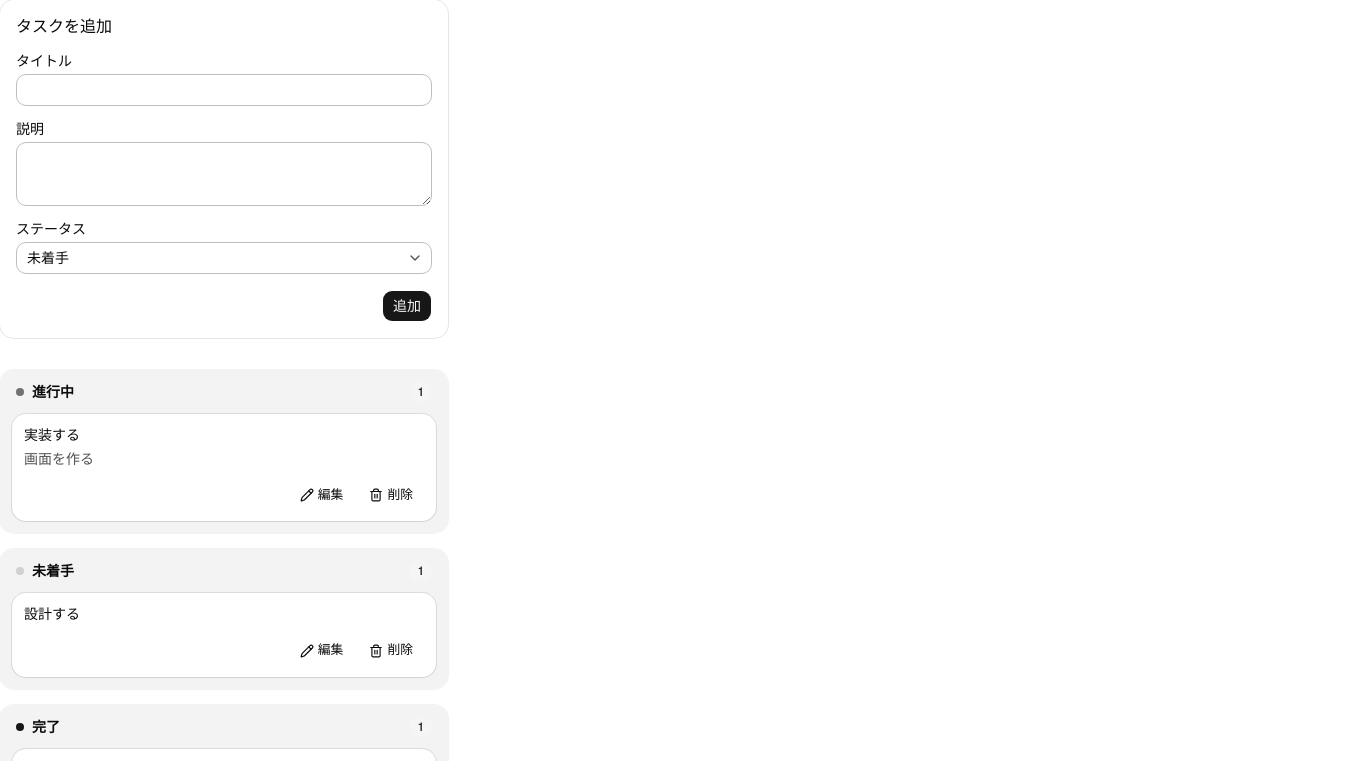
Test: 削除 › 削除ボタンを押すと確認ダイアログが表示され、この時点ではタスクは消えない
This screenshot has width=1366, height=761.
Step 1. Click the button with aria-label "設計するを削除" → (391, 650), box 358,636 -> 424,664
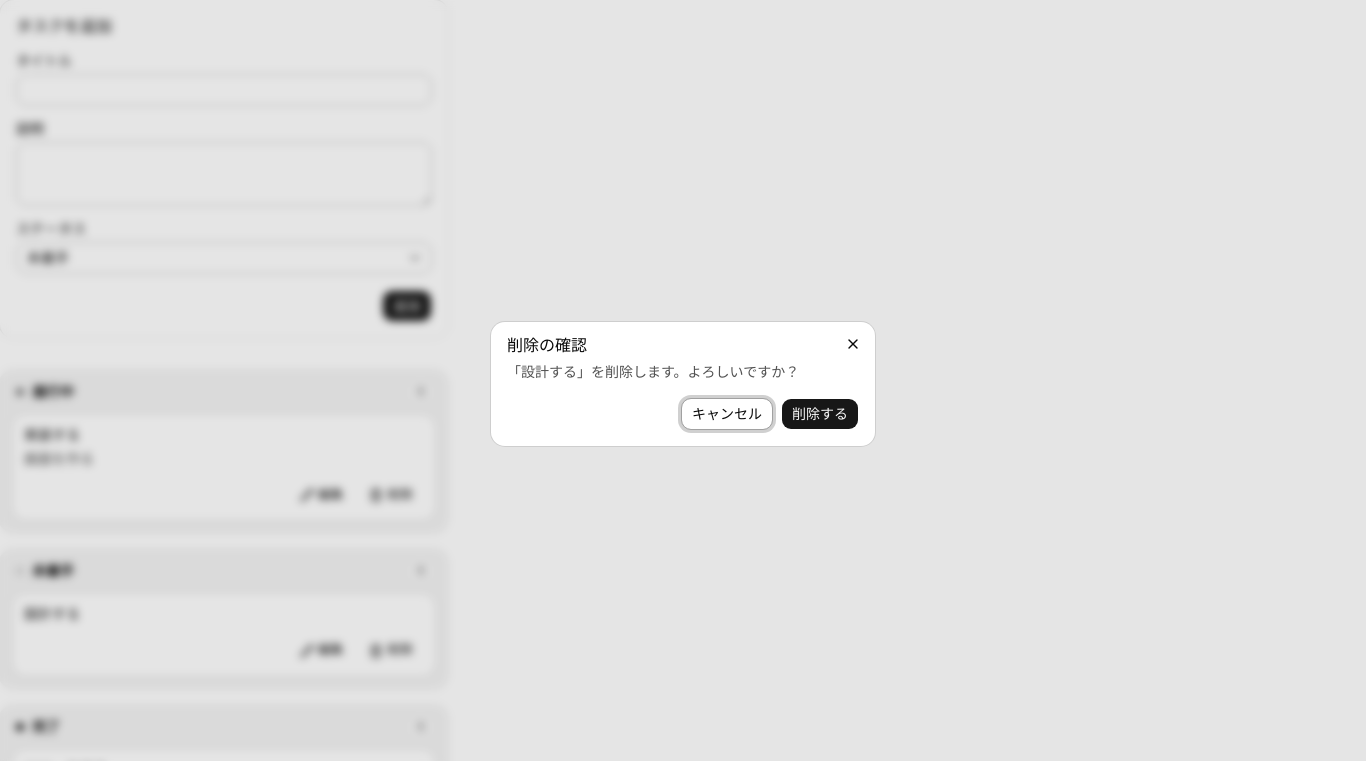
Check: the heading "設計する" is shown, box 24,605 -> 80,623
Check: the dialog "削除の確認" shows "設計する", box 507,363 -> 799,381
